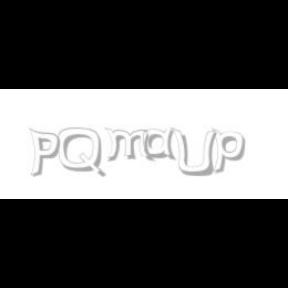P: (28, 128, 60, 178)
Q: (58, 128, 104, 178)
U: (172, 128, 216, 178)
a: (144, 128, 180, 160)
m: (104, 128, 156, 162)
p: (212, 128, 249, 174)
